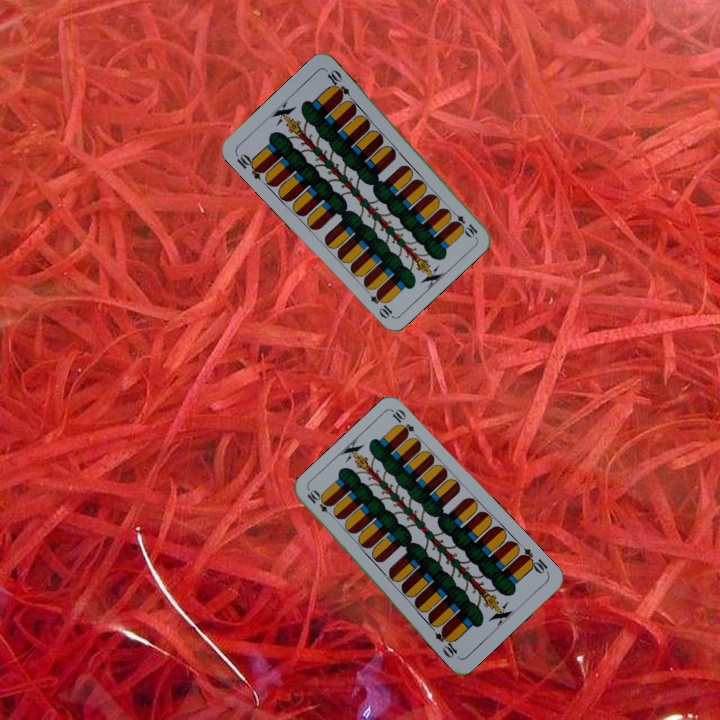E10: (303, 486, 337, 520), (446, 206, 480, 240), (516, 544, 551, 577), (232, 149, 267, 182)
